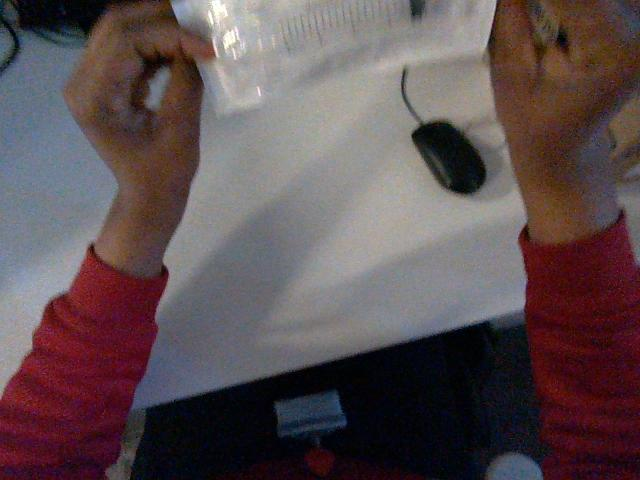syringe: (172, 0, 494, 113)
